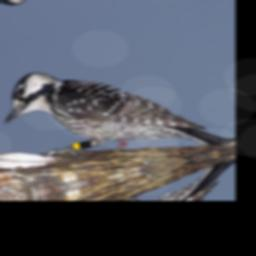Woodpecker: (0, 33, 233, 192)
